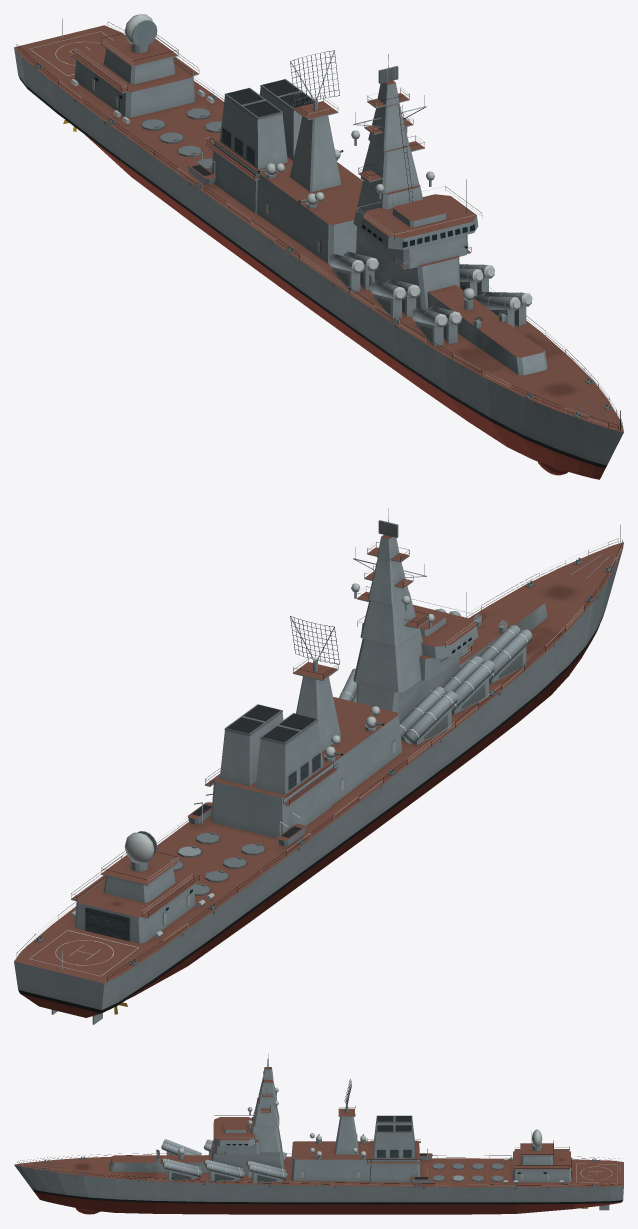
File: cruiser_source.glb
3 renders of one model, top to bottom at view 1: azimuth 30°, elevation 25°; view 2: azimuth 150°, elevation 25°; view 3: azimuth 270°, elevation 25°, orthographic. The views are drawn at different scales.
Parts seen in each view (by area): view 1: MESH_SLAVA_HULL.003; view 2: MESH_SLAVA_HULL.003; view 3: MESH_SLAVA_HULL.003.
Part boxes in pixels (left/top/right/bottom): MESH_SLAVA_HULL.003: left=14, top=14, right=623, bottom=479; MESH_SLAVA_HULL.003: left=14, top=508, right=623, bottom=1024; MESH_SLAVA_HULL.003: left=14, top=1053, right=623, bottom=1214.
Bounding box in the file's own units: 20.83 × 54 × 186.
Materials: 1 (1 with a texture image).
